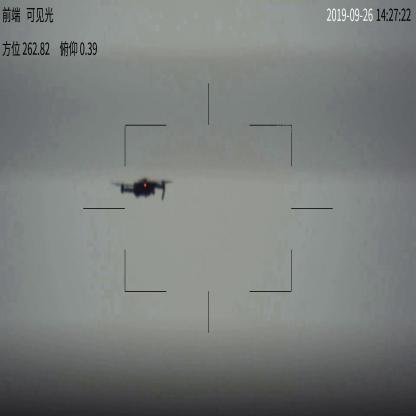uav: (120, 173, 186, 203)
